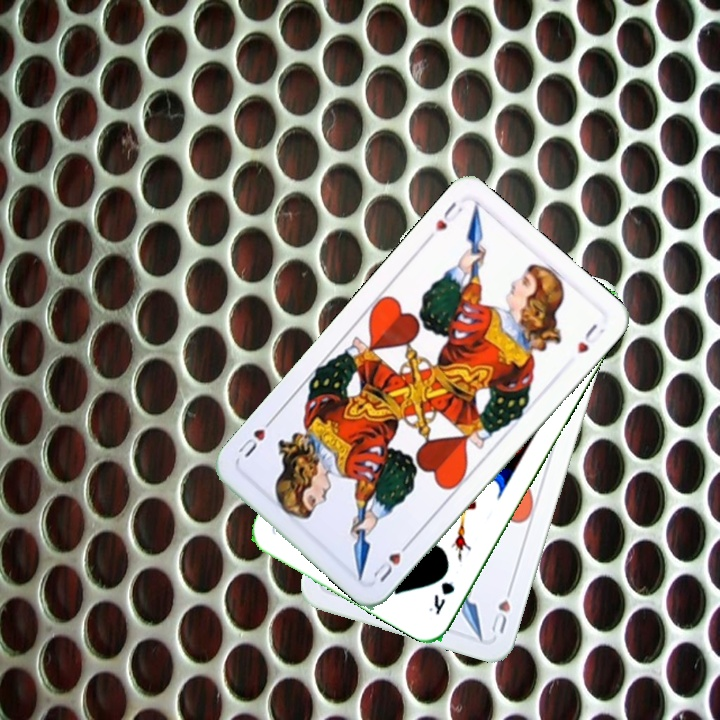GK: (424, 577, 457, 618)
HU: (369, 536, 415, 585), (487, 580, 516, 637), (430, 197, 466, 235)
